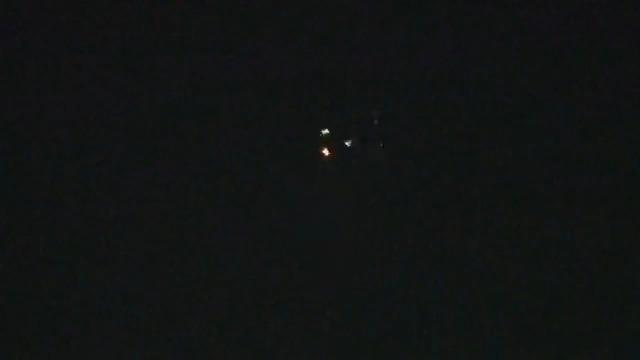Plane: (290, 116, 366, 172)
